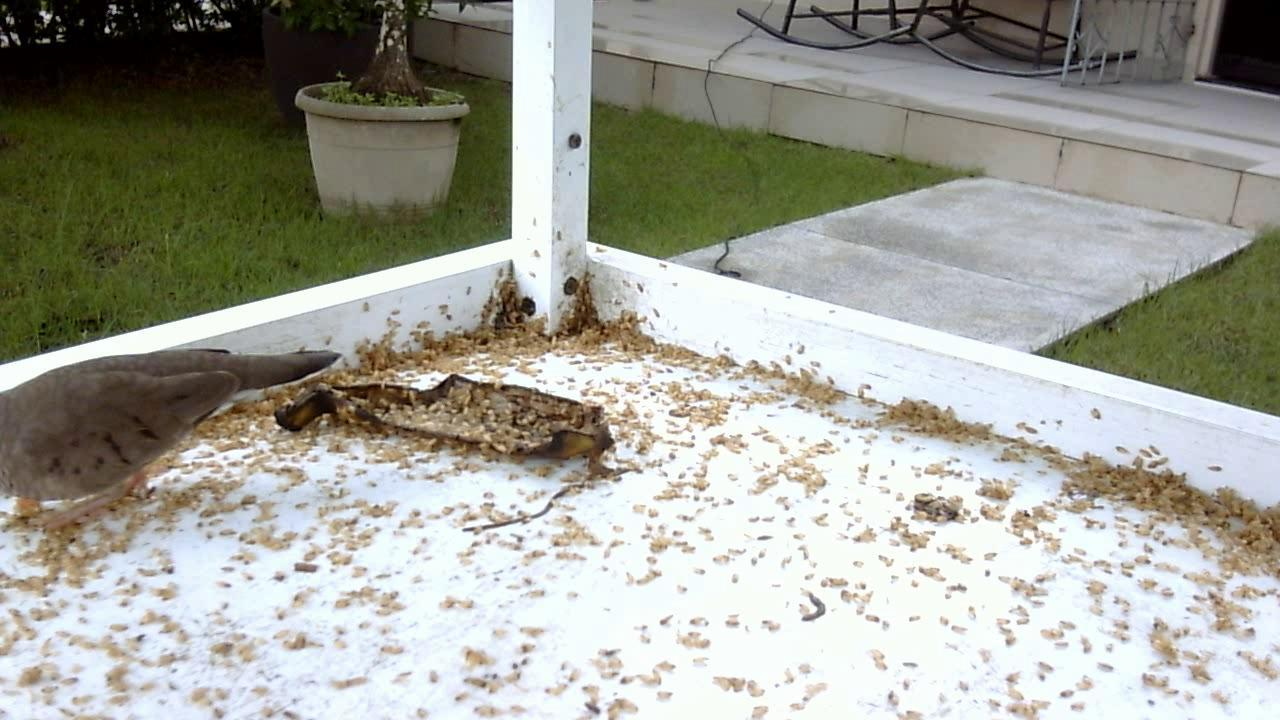rolinha: (6, 334, 346, 530)
